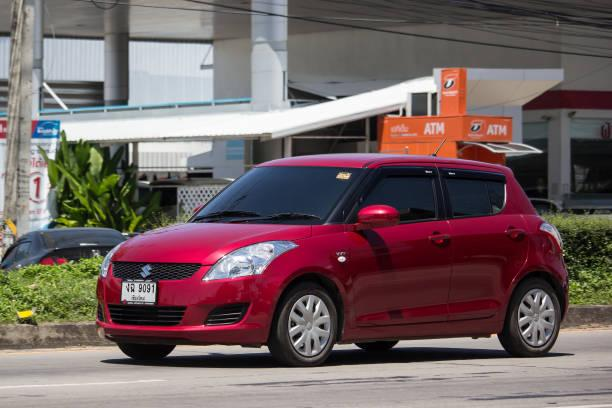suzuki: (134, 262, 158, 283)
